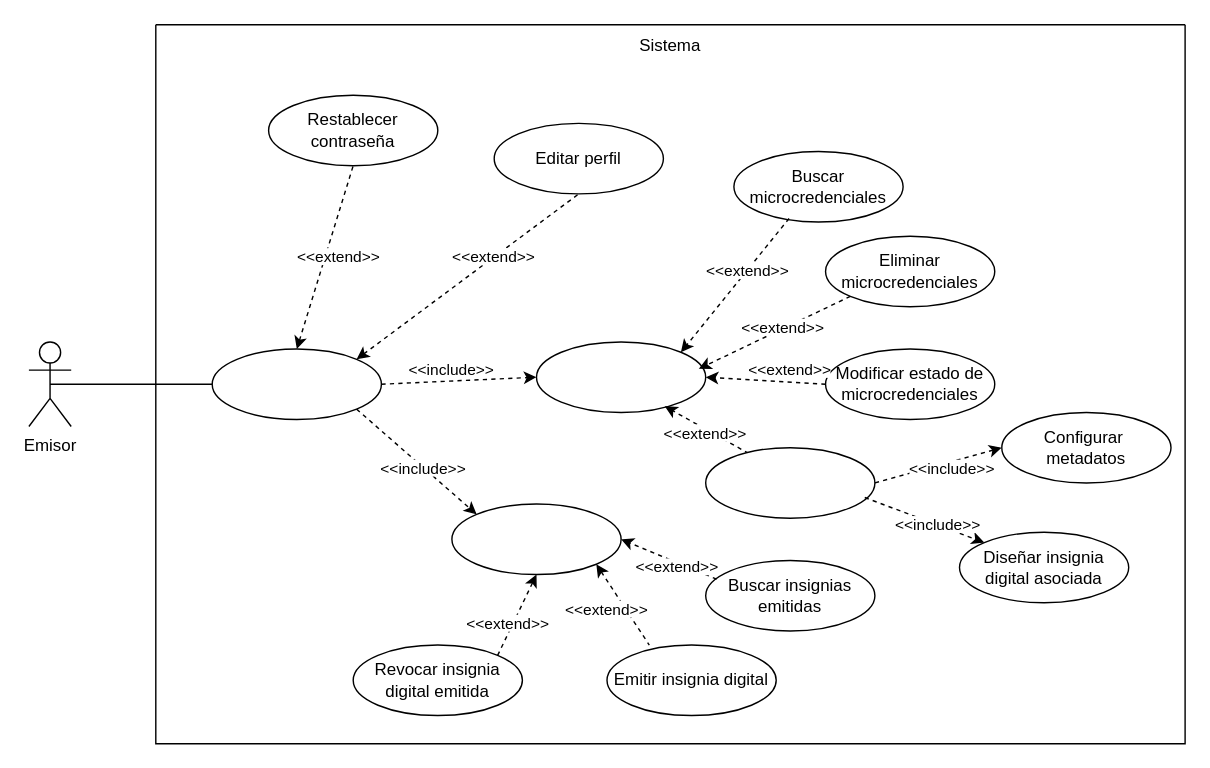
Some shapes in this 1210 by 768 pixel diagram are drawn without their labels. The shapes that lost their labels are listed below. From the top down, each one's centre as x and y in pixels, then its label:
At [296,383]: "Inicio de sesión".
At [620,376]: "Gestión de microcredenciales".
At [789,482]: "Registrar microcredenciales".
At [535,539]: "Gestión de insignias digitales".
